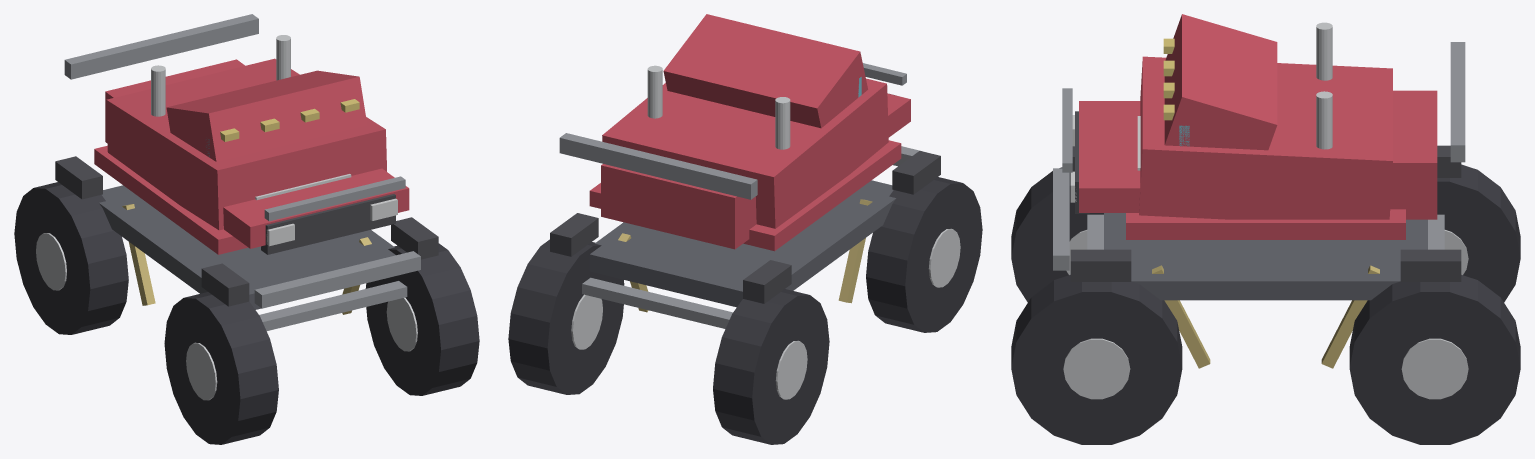
File: monster_truck.glb
The picture shows the model from 3 angles, left to right: view 1: azimuth 30°, elevation 25°; view 2: azimuth 150°, elevation 25°; view 3: azimuth 270°, elevation 25°; orthographic projection. The views are drawn at different scales.
Visible parts, largest first — view 1: g16, g4, g0, g17, g6, g14, g21, g19, g30, g15, g26, g9 (+13 smaller); view 2: g16, g17, g14, g0, g4, g2, g20, g21, g15, g8, g24, g23 (+9 smaller); view 3: g16, g2, g6, g14, g17, g0, g19, g15, g20, g4, g3, g7 (+12 smaller).
Part boxes in pixels (bbox=[...]): g16: bbox=[106, 58, 386, 230]; g4: bbox=[164, 292, 278, 444]; g0: bbox=[14, 182, 128, 334]; g17: bbox=[166, 70, 367, 161]; g6: bbox=[365, 243, 479, 395]; g14: bbox=[99, 185, 395, 309]; g21: bbox=[64, 14, 258, 79]; g19: bbox=[223, 168, 409, 248]; g30: bbox=[254, 251, 420, 308]; g15: bbox=[94, 145, 247, 254]; g26: bbox=[261, 194, 395, 254]; g9: bbox=[259, 281, 407, 330]; g16: bbox=[602, 78, 888, 228]; g17: bbox=[663, 14, 867, 128]; g14: bbox=[589, 180, 896, 307]; g0: bbox=[713, 289, 829, 444]; g4: bbox=[866, 177, 982, 332]; g2: bbox=[508, 239, 624, 394]; g20: bbox=[601, 164, 756, 249]; g21: bbox=[559, 133, 757, 199]; g15: bbox=[589, 140, 901, 251]; g8: bbox=[582, 277, 732, 328]; g24: bbox=[550, 213, 598, 256]; g23: bbox=[892, 151, 940, 194]; g16: bbox=[1139, 56, 1392, 219]; g2: bbox=[1349, 275, 1520, 444]; g6: bbox=[1011, 275, 1182, 444]; g14: bbox=[1104, 213, 1427, 300]; g17: bbox=[1164, 14, 1277, 150]; g0: bbox=[1437, 164, 1520, 302]; g19: bbox=[1079, 101, 1140, 212]; g15: bbox=[1126, 209, 1405, 239]; g20: bbox=[1390, 90, 1437, 219]; g4: bbox=[1011, 167, 1103, 302]; g3: bbox=[1401, 338, 1468, 399]; g7: bbox=[1063, 338, 1130, 399].
Bounding box in the file's own units: 3.39 × 3.84 × 5.48.
